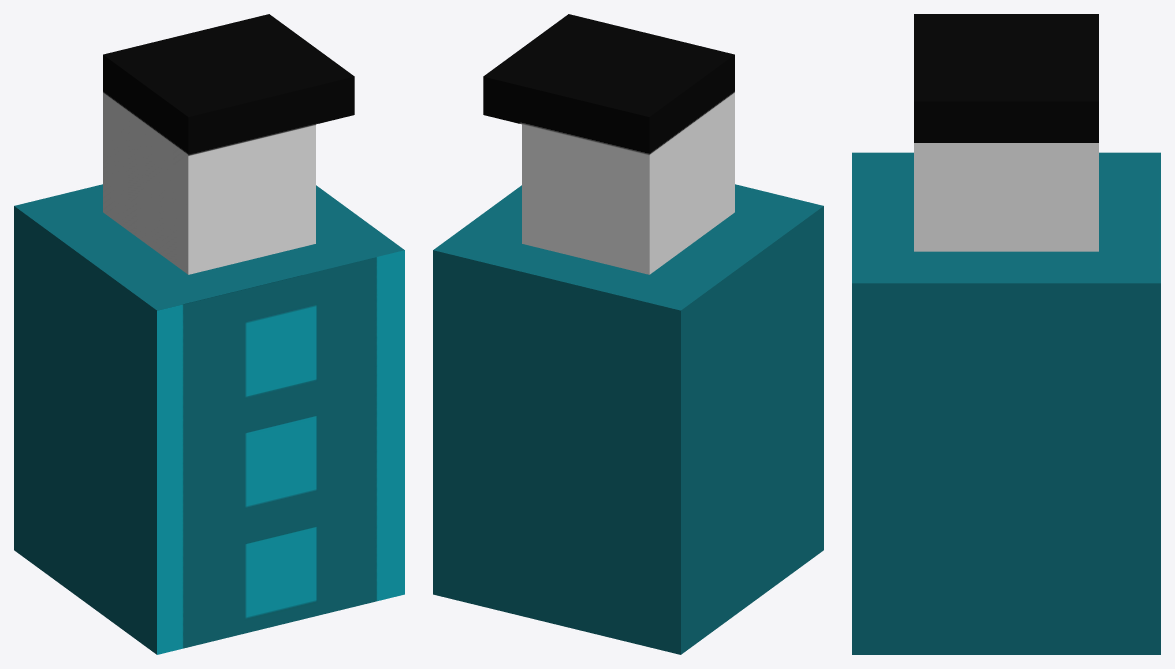
The model's file is barista batista.fbx.
3 renders of one model, left to right at view 1: azimuth 30°, elevation 25°; view 2: azimuth 150°, elevation 25°; view 3: azimuth 270°, elevation 25°, orthographic. The views are drawn at different scales.
Visible parts, largest first — view 1: pCube10; view 2: pCube10; view 3: pCube10.
Boxes of the visible parts, left/top/right/bottom form: pCube10: left=14, top=14, right=404, bottom=654; pCube10: left=433, top=14, right=823, bottom=654; pCube10: left=852, top=14, right=1160, bottom=654.
Size of the model in its own units: 3.59 by 6.95 by 3.59.
